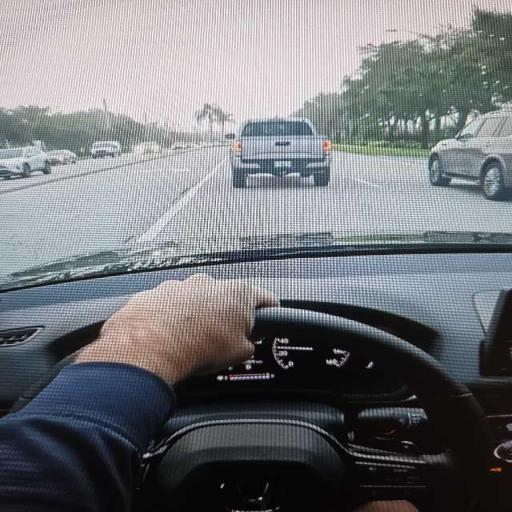car: (428, 110, 511, 199), (225, 119, 331, 187), (0, 146, 51, 178), (91, 142, 121, 157), (48, 150, 77, 165), (134, 142, 160, 154), (172, 143, 186, 150)
lane: (154, 152, 511, 240), (0, 148, 226, 273), (0, 149, 197, 195)
person: (0, 275, 278, 511)
